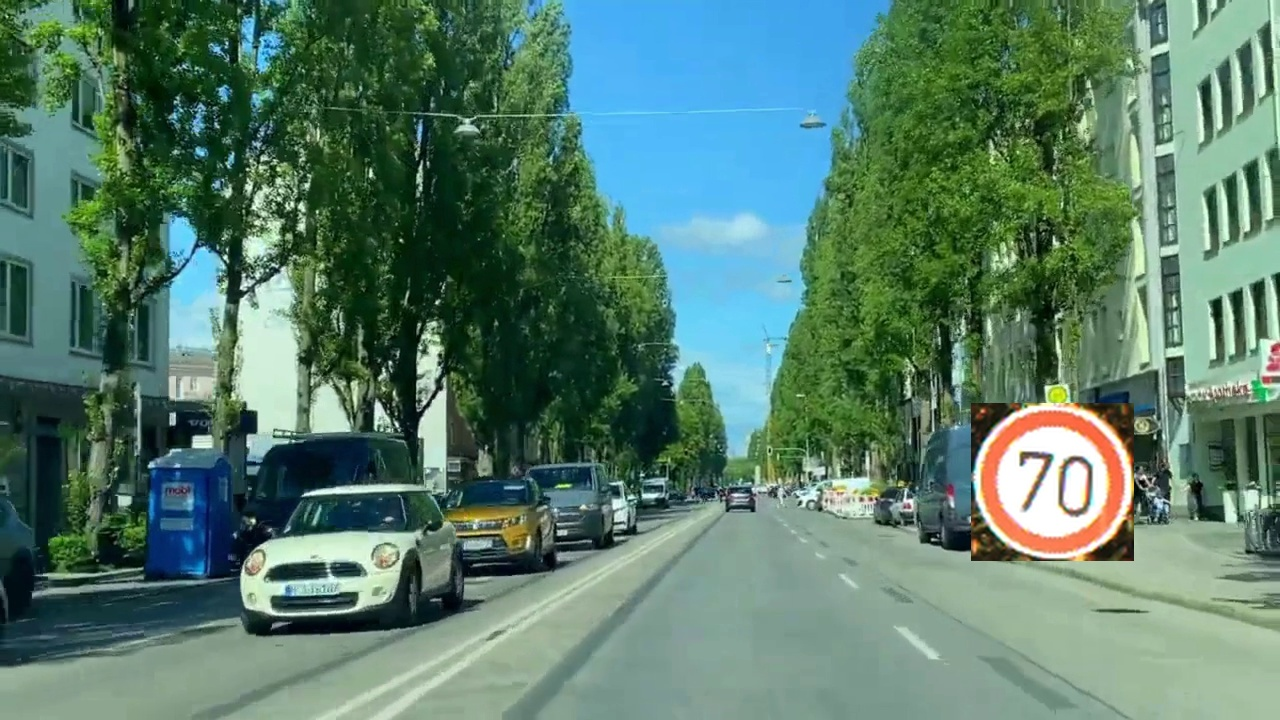Speed 70: (971, 403, 1134, 561)
